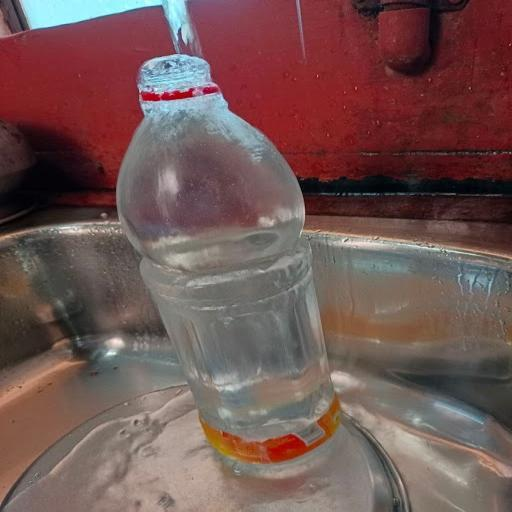bottle: (108, 38, 374, 472)
